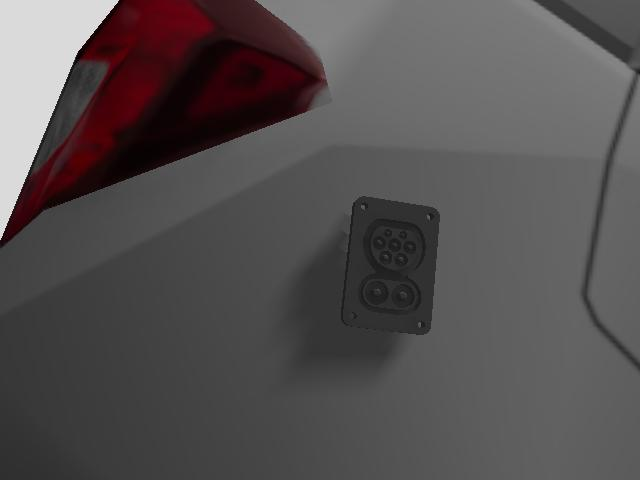EV-socket: (343, 196, 438, 333)
